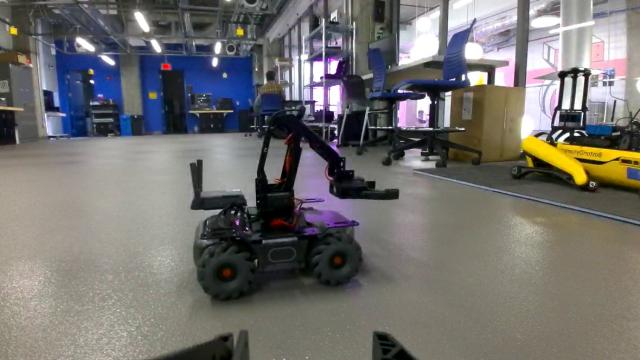robot: (181, 99, 406, 306)
